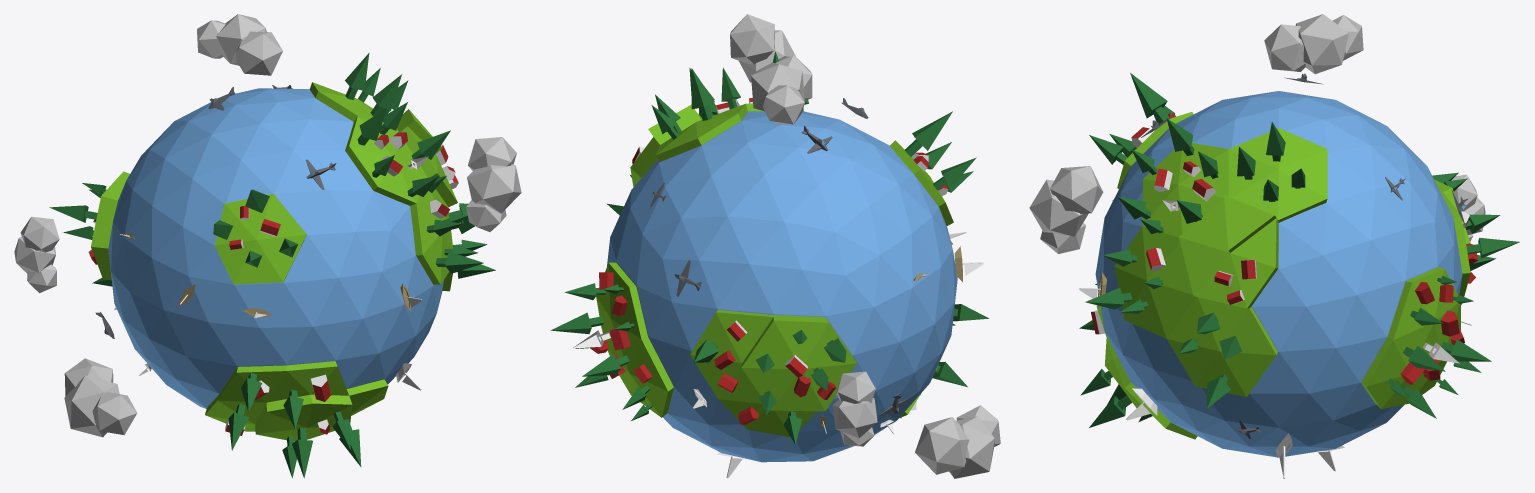
The model's file is Earth.glb.
3 views of the same model, side by side, from view 1: azimuth 30°, elevation 25°; view 2: azimuth 150°, elevation 25°; view 3: azimuth 270°, elevation 25° (orthographic). The views are drawn at different scales.
Visible parts, largest first — view 1: Icosphere.001, Icosphere, Icosphere.005, Plane.027, Plane.084, Plane.086, Plane.008, Plane.007, Plane.048, Plane.019, Plane.015, Plane.011; view 2: Icosphere.001, Icosphere, Icosphere.005, Plane.027, Plane.086, Plane.025, Plane.008, Plane.040, Plane.041, Plane.028; view 3: Icosphere.001, Icosphere, Icosphere.005, Plane.027, Plane.084, Plane.025, Plane.086, Plane.049, Plane.041, Plane.035, Plane.015, Plane.019 (+1 smaller).
Boxes of the visible parts, <box> form: Icosphere.001: <box>108,88,444,408</box>; Icosphere: <box>91,82,457,441</box>; Icosphere.005: <box>14,14,521,437</box>; Plane.027: <box>88,132,458,435</box>; Plane.084: <box>114,232,421,390</box>; Plane.086: <box>95,85,336,338</box>; Plane.008: <box>345,53,369,99</box>; Plane.007: <box>370,74,401,116</box>; Plane.048: <box>292,428,312,478</box>; Plane.019: <box>435,251,483,273</box>; Plane.015: <box>357,108,386,145</box>; Plane.011: <box>411,130,450,159</box>; Icosphere.001: <box>607,111,957,462</box>; Icosphere: <box>596,103,953,437</box>; Icosphere.005: <box>730,14,1000,478</box>; Plane.027: <box>590,98,948,424</box>; Plane.086: <box>650,98,908,416</box>; Plane.025: <box>905,111,952,156</box>; Plane.008: <box>691,68,714,120</box>; Plane.040: <box>550,312,603,334</box>; Plane.041: <box>582,353,629,376</box>; Plane.028: <box>933,157,976,190</box>; Icosphere.001: <box>1095,91,1462,457</box>; Icosphere: <box>1096,112,1470,439</box>; Icosphere.005: <box>1029,14,1485,253</box>; Plane.027: <box>1091,113,1478,384</box>; Plane.084: <box>1079,200,1344,478</box>; Plane.025: <box>1130,73,1169,122</box>; Plane.086: <box>1141,73,1467,438</box>; Plane.049: <box>1089,395,1131,427</box>; Plane.041: <box>1441,339,1491,361</box>; Plane.035: <box>1466,237,1519,258</box>; Plane.015: <box>1166,118,1194,155</box>; Plane.019: <box>1085,288,1132,309</box>.
Size of the model in its own units: 2.81 by 2.73 by 2.79.
